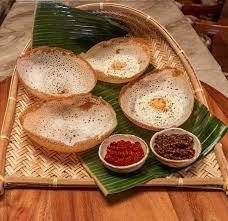Hoppers: (21, 36, 198, 127)
Lunu sambol: (104, 132, 144, 170)
